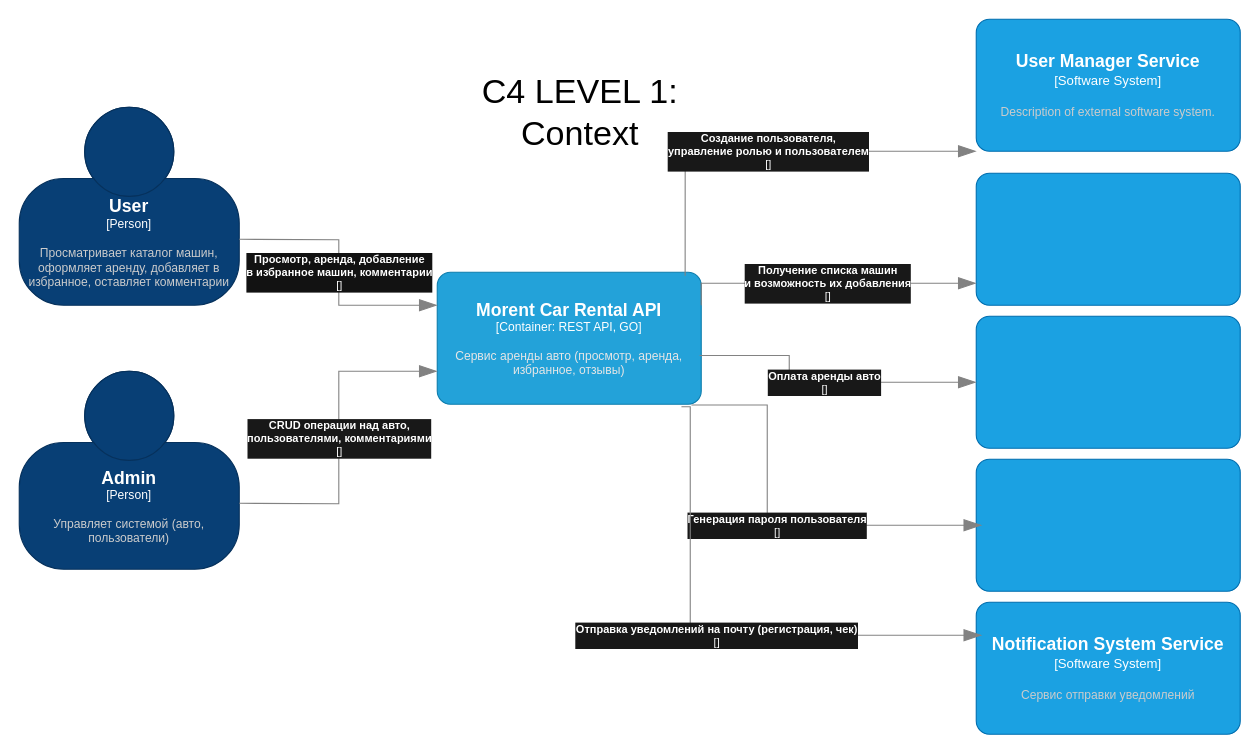
Some shapes in this 1260 by 754 pixel diagram are drawn without their labels. Here are the shapes that lost their labels. From the top down, the centre of each, then its label:
pixel 1107 238: Car Agregator Service [Software System] Машинный агрегатор
pixel 1107 381: Payment System Service [Software System] Сервис симуляции платежей
pixel 1107 524: Password Generation Service [Software System] Сервис генерации паролей
